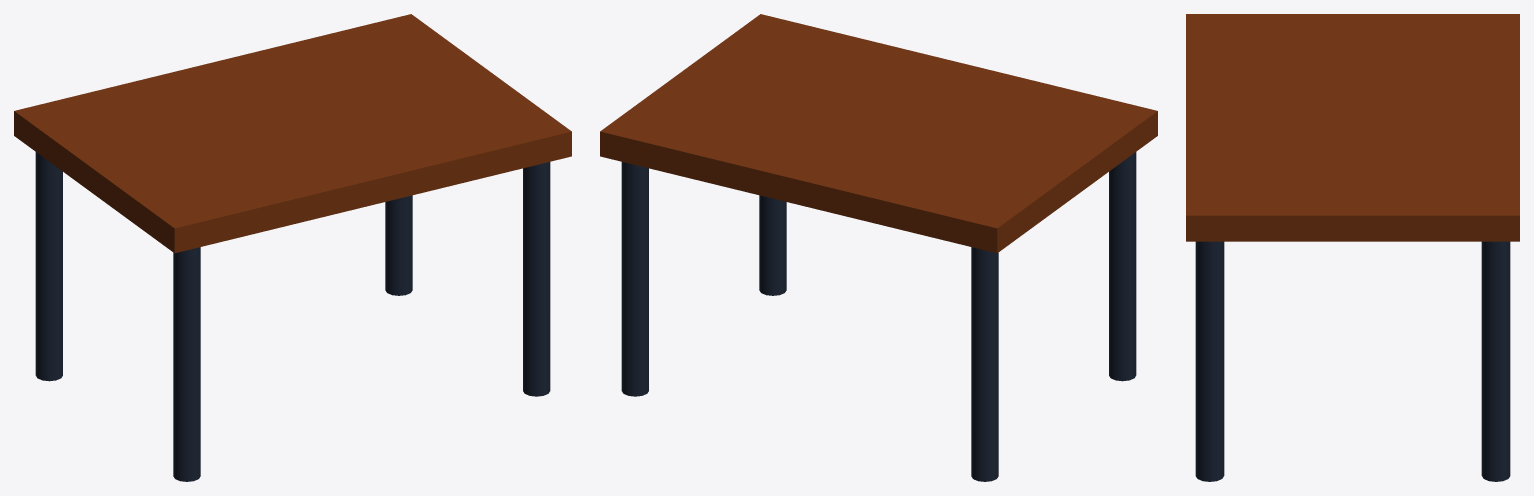
The model's file is table.glb.
3 renders of one model, left to right at view 1: azimuth 30°, elevation 25°; view 2: azimuth 150°, elevation 25°; view 3: azimuth 270°, elevation 25°, orthographic. The views are drawn at different scales.
Size of the model in its own units: 0.5 by 0.315 by 0.35.
